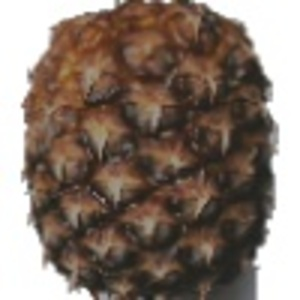abacaxi: (17, 2, 280, 297)
